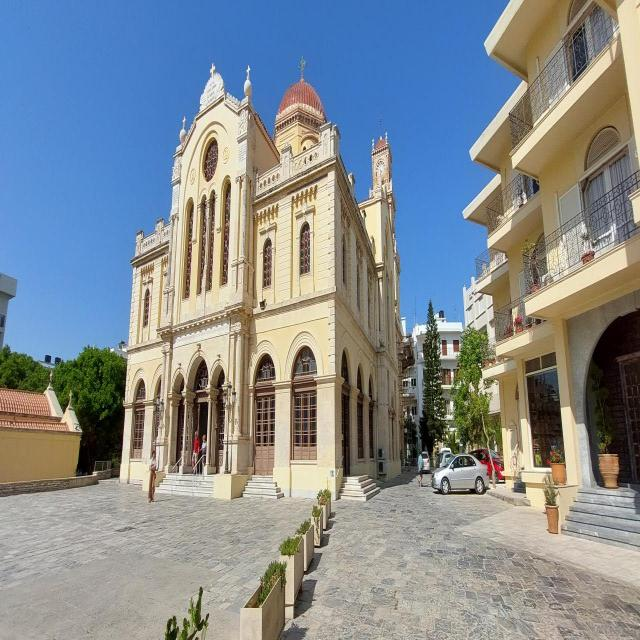Agios Minas: (114, 50, 406, 503)
